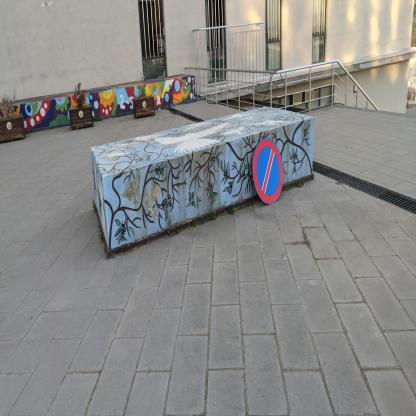No Waiting: (254, 139, 285, 205)
